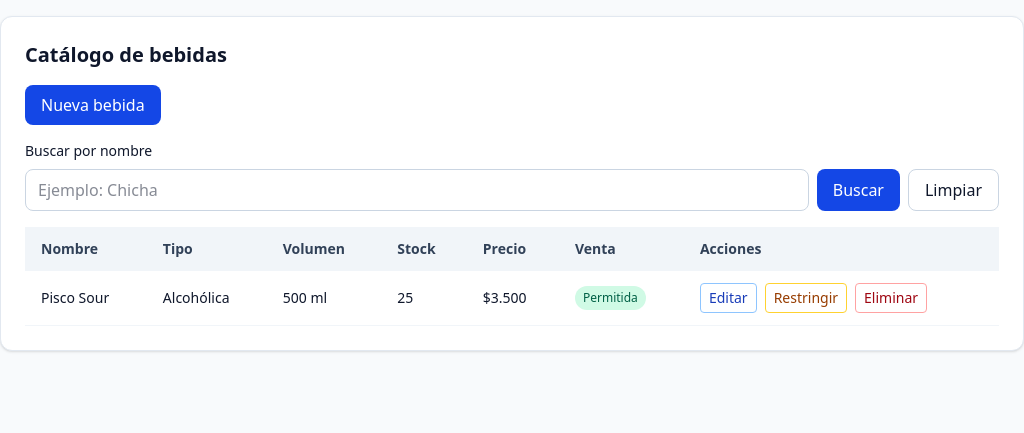
Test: Acciones del catálogo › confirma la acción y refresca el catálogo, eliminar=false
The width and height of the screenshot is (1024, 433).
Expected: the text "Pisco Sour" is shown, [25, 271, 147, 326]
Step 1. Click the button "Restringir" → (806, 298), box [765, 283, 847, 313]
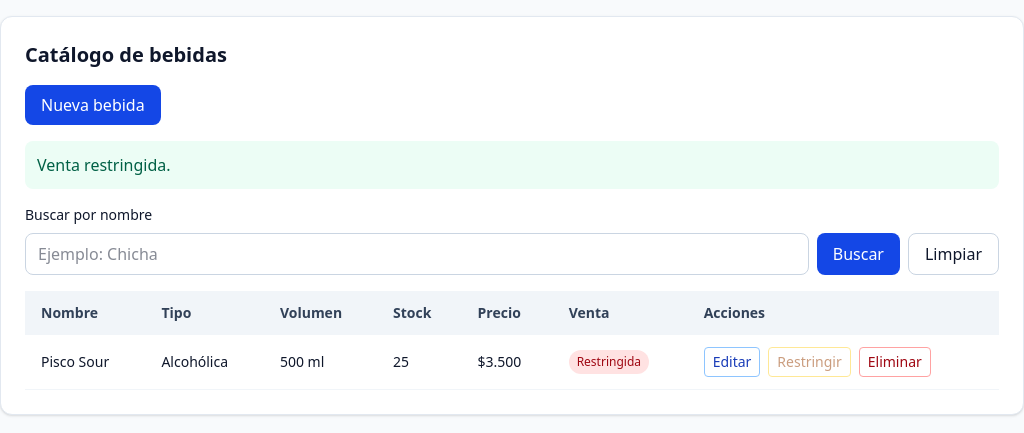
Result: the text "Venta restringida." is shown at [25, 141, 999, 189]
Result: the button "Restringir" is disabled at [768, 347, 851, 377]
